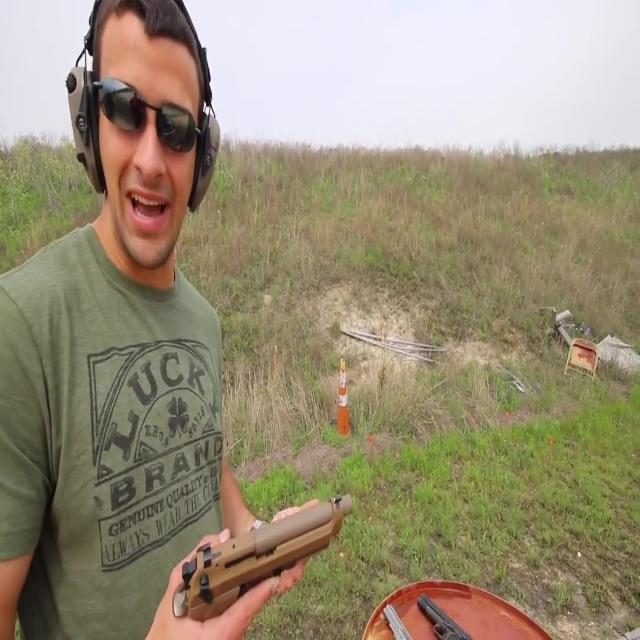Weapon: (156, 443, 540, 640)
